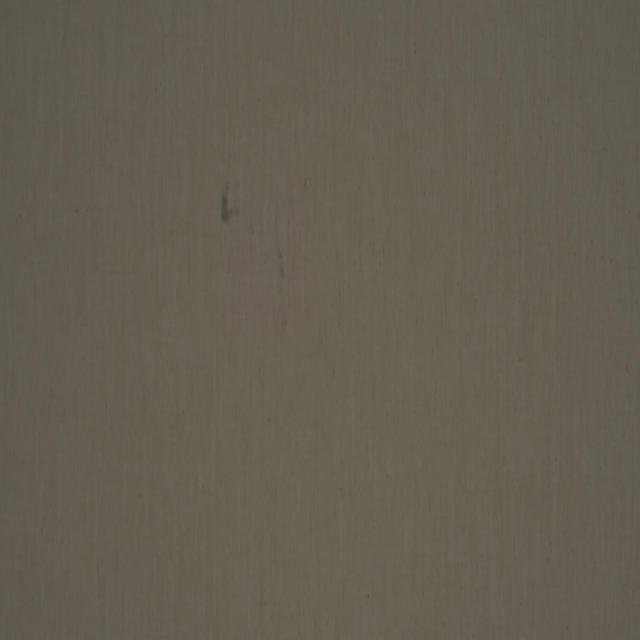dirty: (221, 181, 240, 227), (278, 251, 284, 278), (304, 178, 307, 188)
